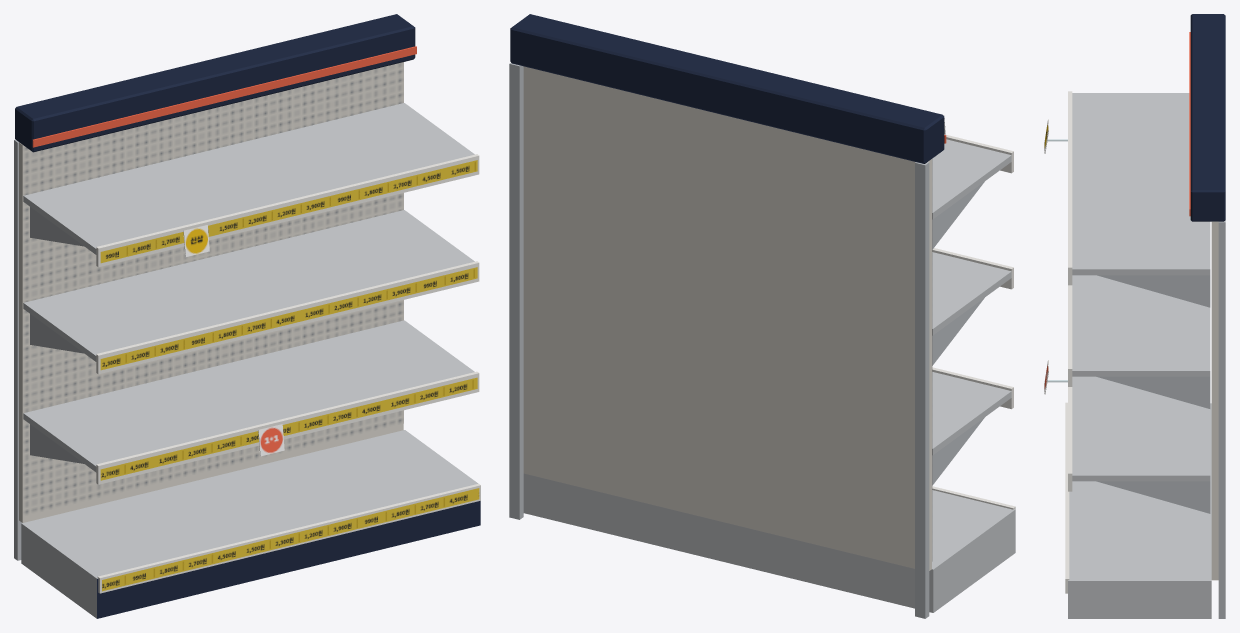
Rendered from SC_Fix_Shelf_Wall_1200_Low.gltf.
3 renders of one model, left to right at view 1: azimuth 30°, elevation 25°; view 2: azimuth 150°, elevation 25°; view 3: azimuth 270°, elevation 25°, orthographic. The views are drawn at different scales.
Parts seen in each view (by area): view 1: SC_Fix_Shelf_Wall_1200_Low; view 2: SC_Fix_Shelf_Wall_1200_Low; view 3: SC_Fix_Shelf_Wall_1200_Low.
Part boxes in pixels (x1,y1,x2,y2): SC_Fix_Shelf_Wall_1200_Low: [14, 14, 480, 618]; SC_Fix_Shelf_Wall_1200_Low: [509, 14, 1015, 618]; SC_Fix_Shelf_Wall_1200_Low: [1044, 14, 1225, 618].
Bounding box in the file's own units: 1.2 × 1.35 × 0.5177.
Materials: 2 (2 with a texture image).
